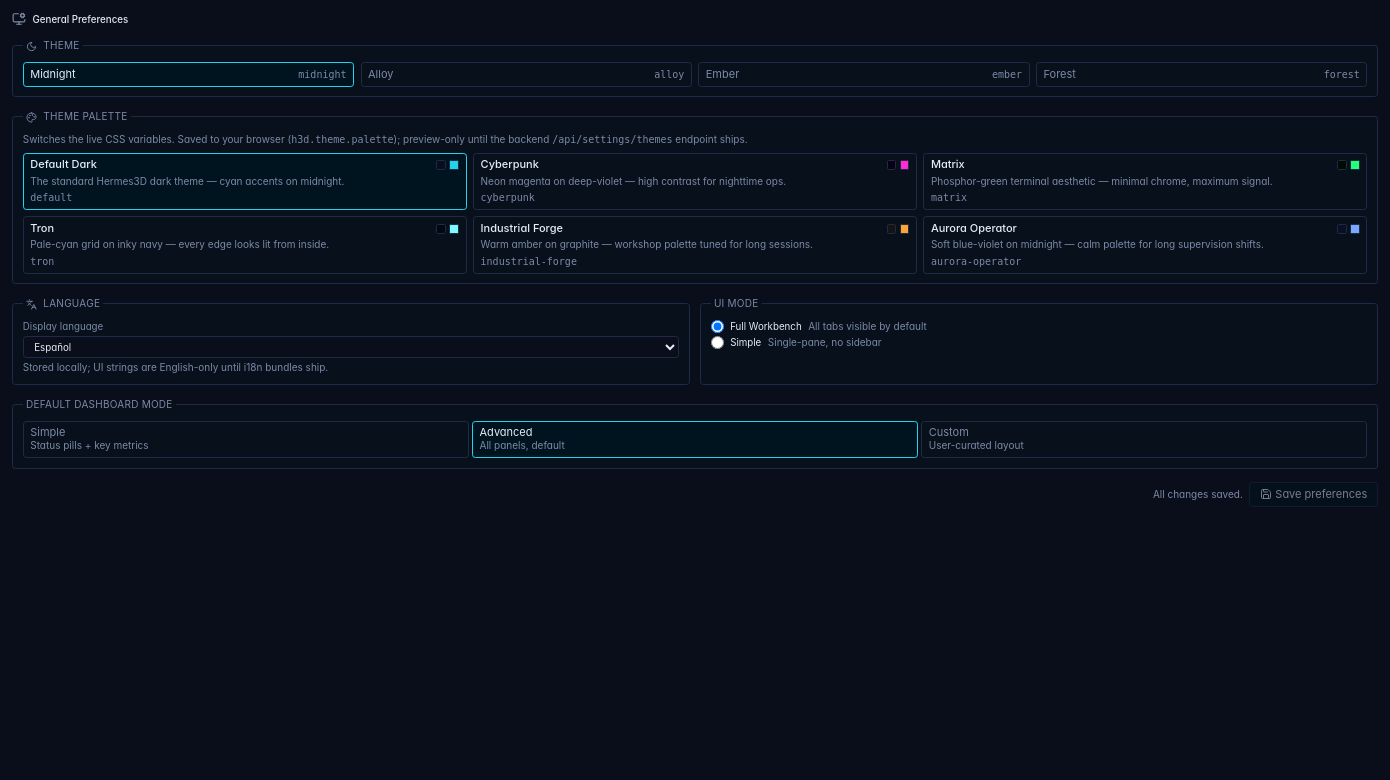
it: GeneralSubtab › shows an honest error toast on save failure
Expected: the button with test id "settings-general-save" is shown, [1249,482,1378,507]
Click the radio button with test id "settings-general-theme-ember". click: click(723, 74)
box: [698,62,1030,87]
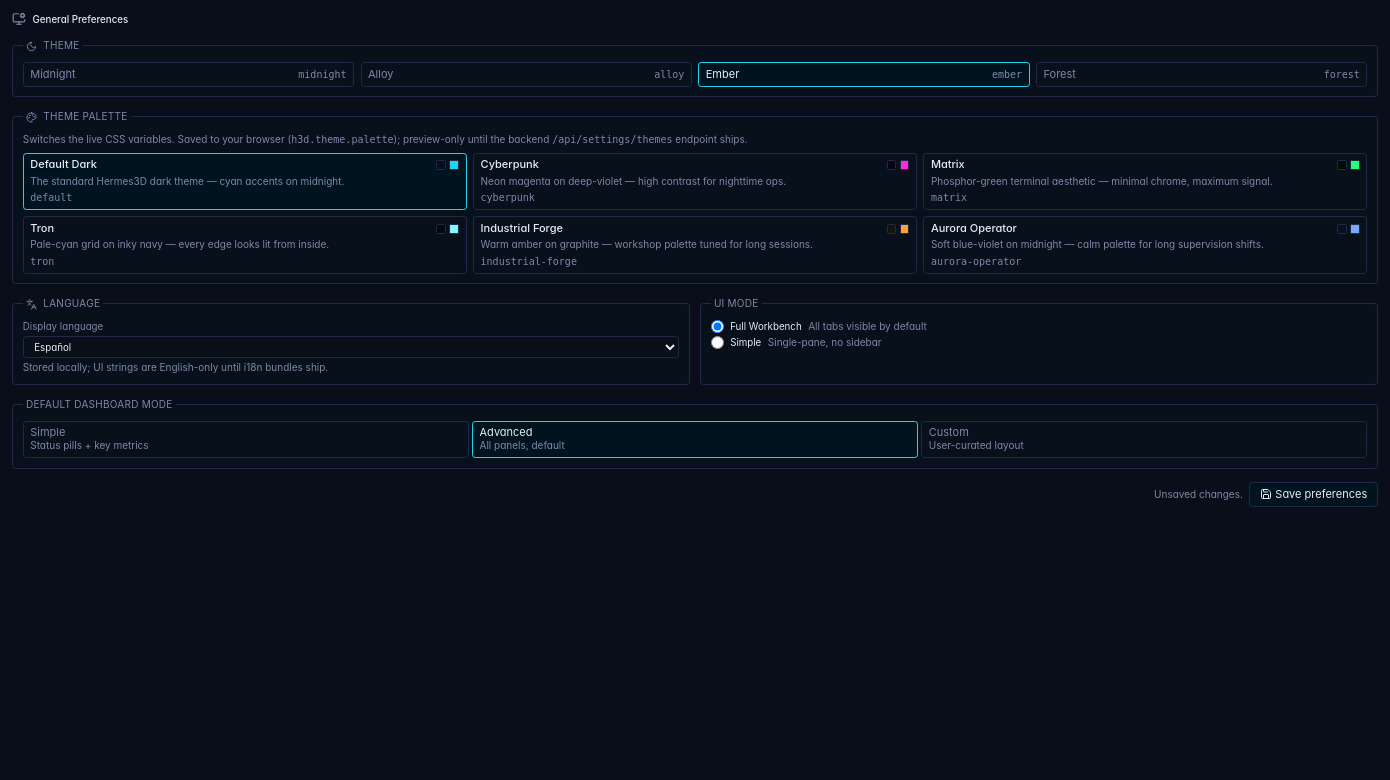
Click the button with test id "settings-general-save". click: click(1314, 494)
box: [1249,482,1378,507]
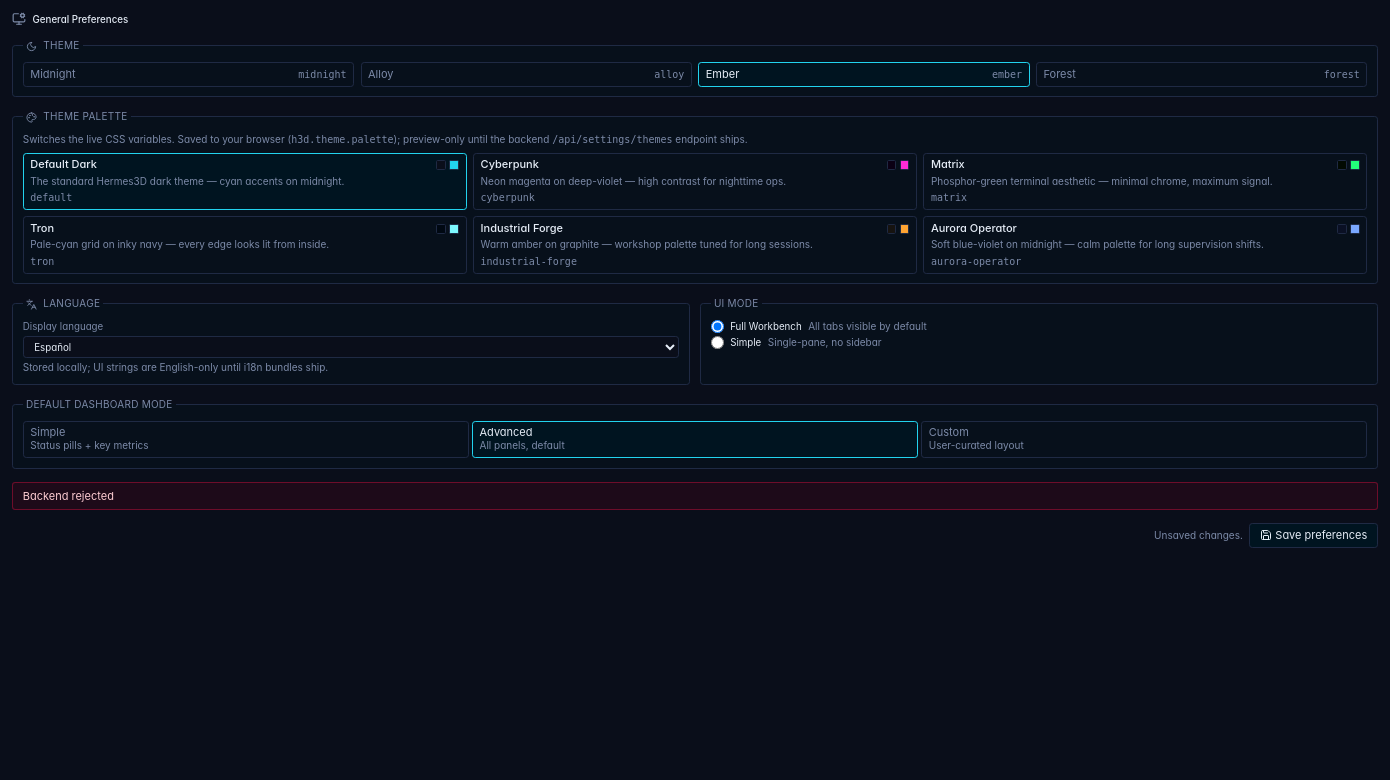
Now the message with test id "settings-general-status" reads "Backend rejected", box [23,488,114,502]
